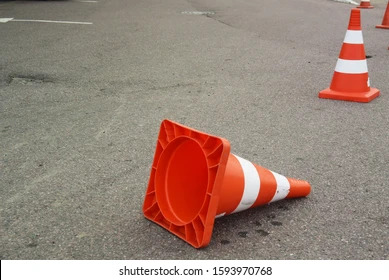cones: (141, 118, 316, 249)
